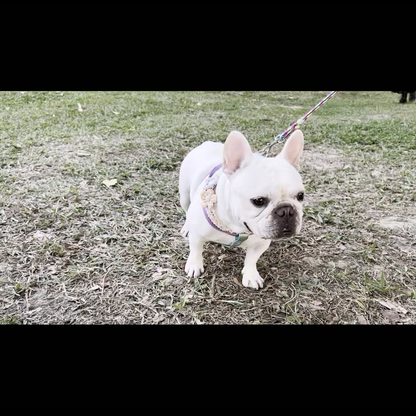bulldog: (173, 127, 310, 293)
